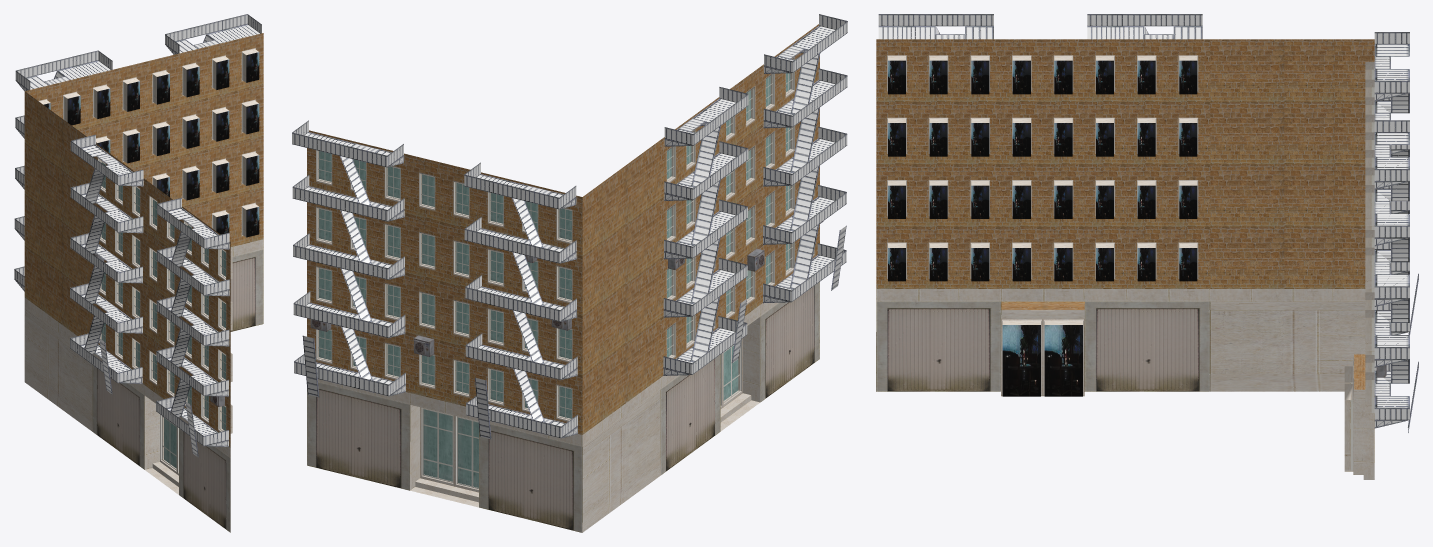
Rendered from Building_01.fbx.
3 views of the same model, side by side, from view 1: azimuth 30°, elevation 25°; view 2: azimuth 150°, elevation 25°; view 3: azimuth 270°, elevation 25° (orthographic). The views are drawn at different scales.
Visible parts, largest first — view 1: Building_01; view 2: Building_01; view 3: Building_01.
Boxes of the visible parts, x1,y1,x2,y2 form: Building_01: (14, 14, 263, 532); Building_01: (292, 14, 847, 532); Building_01: (876, 14, 1418, 479).
Size of the model in its own units: 1628 by 1724 by 2337.
